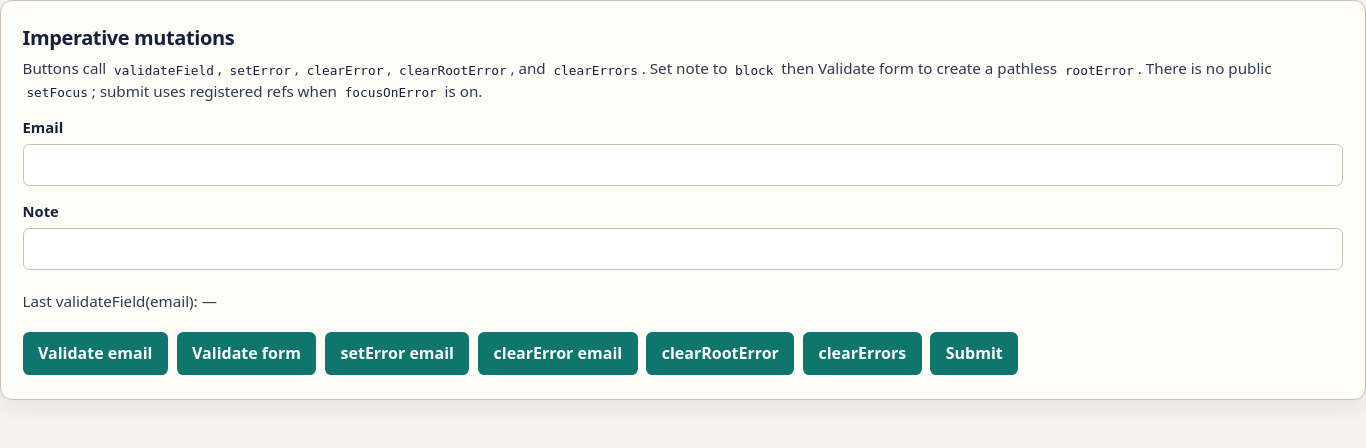
Test case: documentation example flows › imperative validateField and clearError
The image size is (1366, 448).
Click the button "Validate email" at (95, 354), box [23, 332, 168, 375]
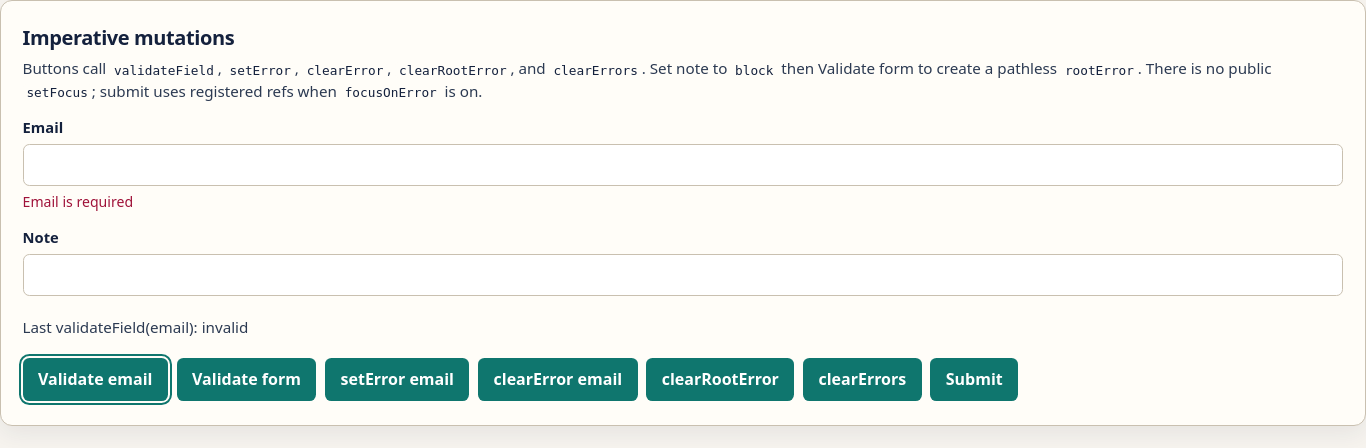
Now the text "Email is required" is shown, box [23, 192, 133, 211]
Click the button "clearError email" at (558, 380), box [478, 358, 638, 401]
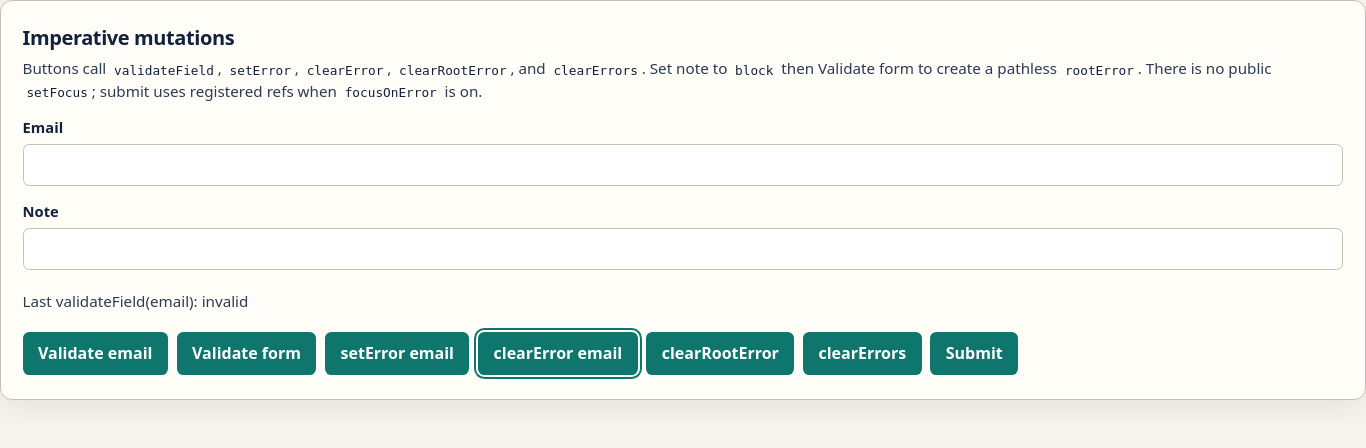
Now the text "Email is required" is gone
